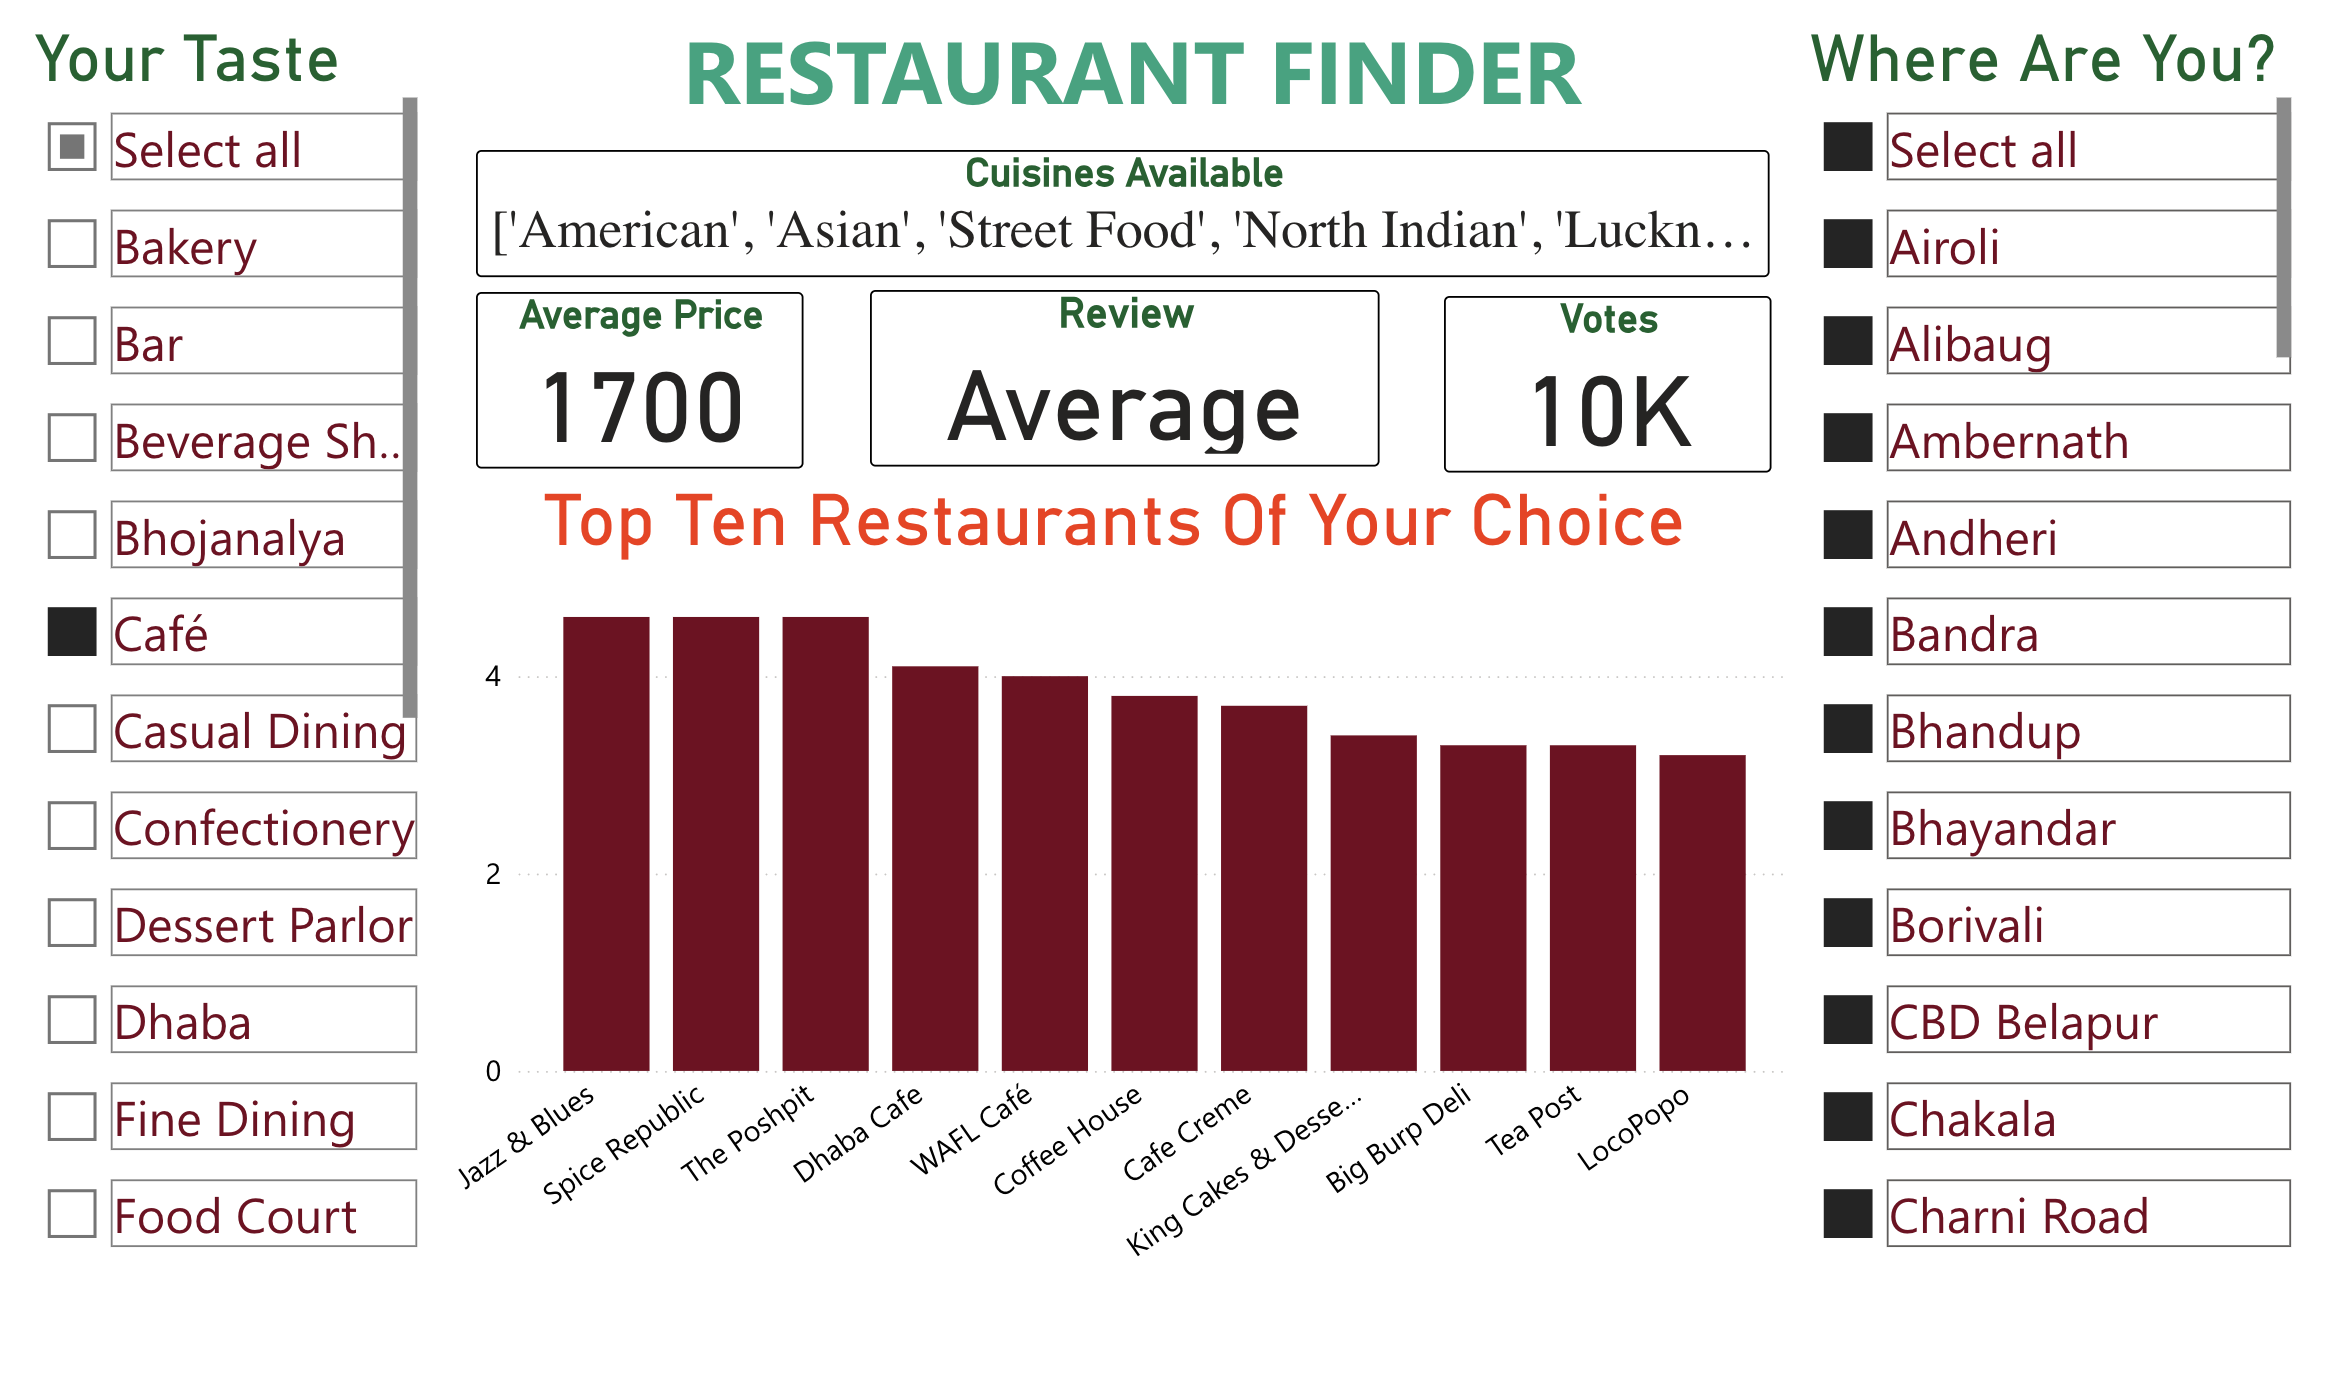

The page's visual inventory and layout, read from the dashboard file:
{"tool":"powerbi","page":{"name":"Page 1","canvas":[1280,720],"ordinal":0},"visuals":[{"type":"slicer","title":"Your Taste","fields":{"Values":["Mumbai_Restaurants.RESTAURANT_TYPE"]},"box":[15.8,15.8,219.9,686.7],"z":0},{"type":"clusteredColumnChart","title":"Top Ten Restaurants Of Your Choice","fields":{"Y":["Max(Mumbai_Restaurants.RATING)"],"Category":["Mumbai_Restaurants.NAME"]},"box":[235.8,265.8,750,436.7],"z":1},{"type":"slicer","title":"Where Are You?","fields":{"Values":["Mumbai_Restaurants.PLACE"]},"box":[985.7,15.8,273.7,686.7],"z":2},{"type":"card","title":"Average Price","fields":{"Values":["Max(Mumbai_Restaurants.PRICE)"]},"box":[262.6,159.8,178.8,96.5],"z":3},{"type":"card","title":"Review","fields":{"Values":["Min(Mumbai_Restaurants.REVIEW)"]},"box":[477.8,158.2,278.5,96.5],"z":4},{"type":"card","title":"Votes","fields":{"Values":["Max(Mumbai_Restaurants.VOTES)"]},"box":[791.1,161.4,178.8,96.5],"z":5},{"type":"textbox","box":[359.2,0,522.1,82.3],"z":6},{"type":"card","title":"Cuisines Available","fields":{"Values":["Min(Mumbai_Restaurants.CUISINE_CATEGORY)"]},"box":[262.6,82.3,707.2,69.6],"z":7}]}

Visuals, with their boxes on the page's 1280x720 design canvas (x1, y1, x2, y2). These are canvas units, not pixel positions in the 2336x1394 screenshot, which may show the page scaled, cropped or inside an application window:
"Your Taste" slicer: bbox(16, 16, 236, 702)
"Top Ten Restaurants Of Your Choice" clusteredColumnChart: bbox(236, 266, 986, 702)
"Where Are You?" slicer: bbox(986, 16, 1259, 702)
"Average Price" card: bbox(263, 160, 441, 256)
"Review" card: bbox(478, 158, 756, 255)
"Votes" card: bbox(791, 161, 970, 258)
textbox: bbox(359, 0, 881, 82)
"Cuisines Available" card: bbox(263, 82, 970, 152)
